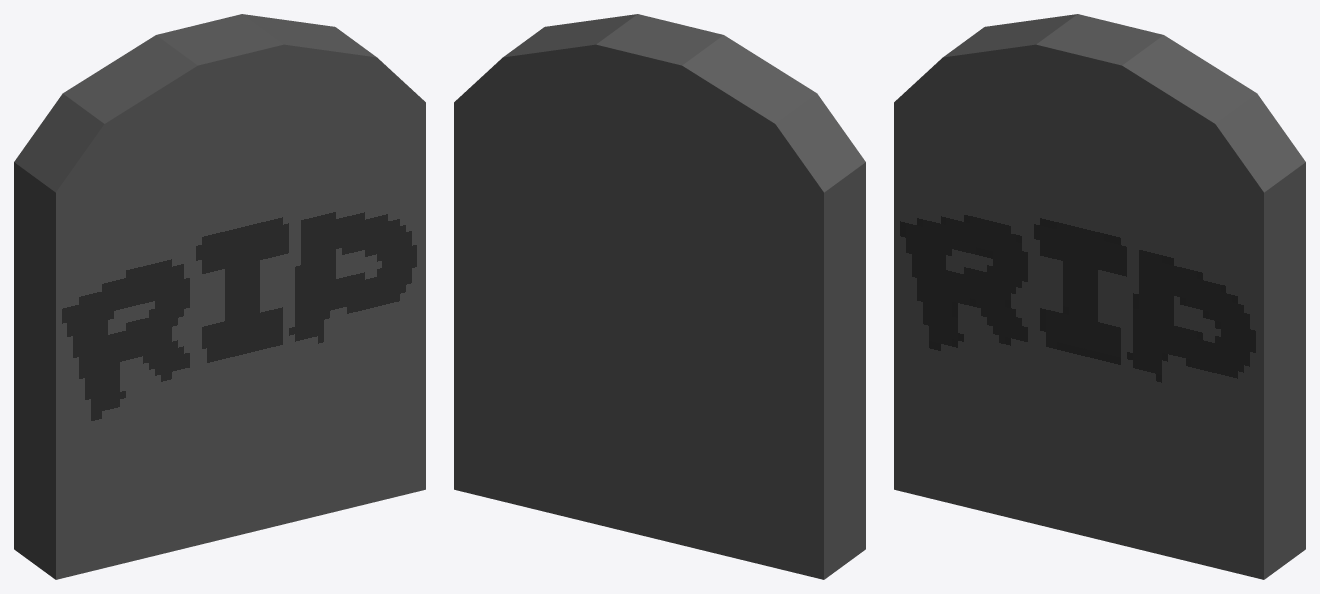
The model's file is tombstone.glb.
3 views of the same model, side by side, from view 1: azimuth 30°, elevation 25°; view 2: azimuth 150°, elevation 25°; view 3: azimuth 330°, elevation 25° (orthographic).
Visible parts, largest first — view 1: Text; view 2: Text; view 3: Text.
Boxes of the visible parts, bbox=[...] form: Text: bbox=[14, 14, 425, 579]; Text: bbox=[454, 14, 865, 579]; Text: bbox=[894, 14, 1305, 579].
Size of the model in its own units: 2 by 2.48 by 0.3915.
Materials: 1 (1 with a texture image).
